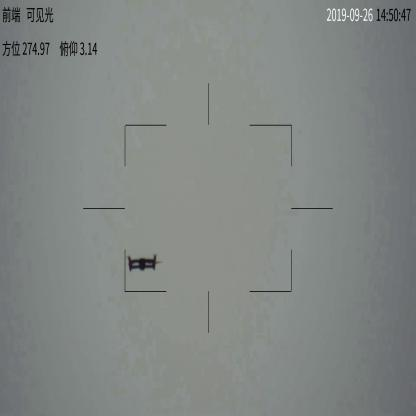uav: (120, 252, 164, 272)
